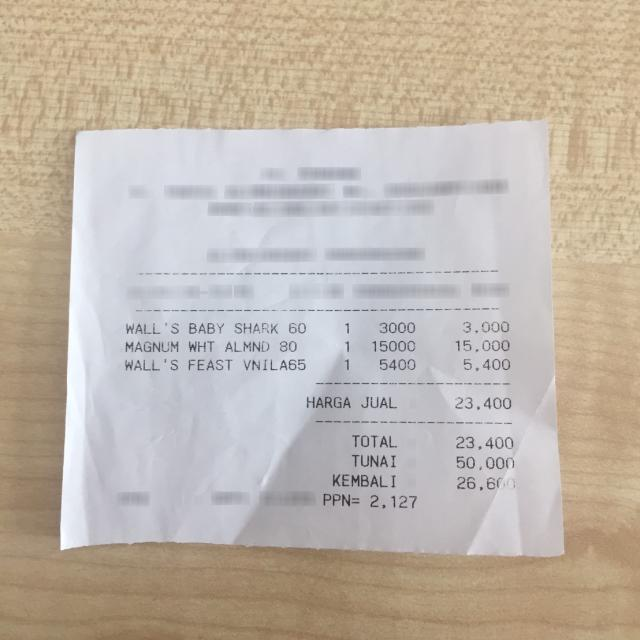kertas: (62, 121, 564, 556)
